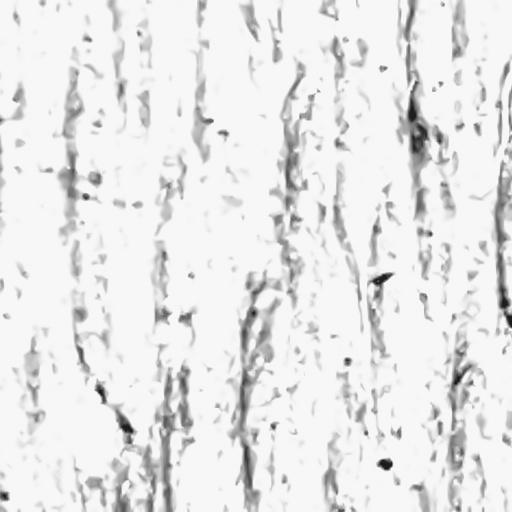egg: (368, 272, 393, 285), (407, 94, 417, 122), (95, 382, 106, 403), (377, 458, 392, 470), (504, 306, 511, 327)
